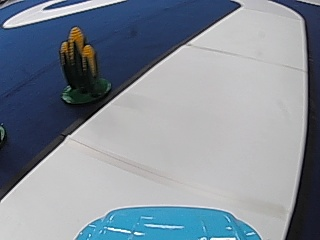corn: (58, 24, 110, 105)
